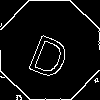D: (25, 25, 76, 81)
